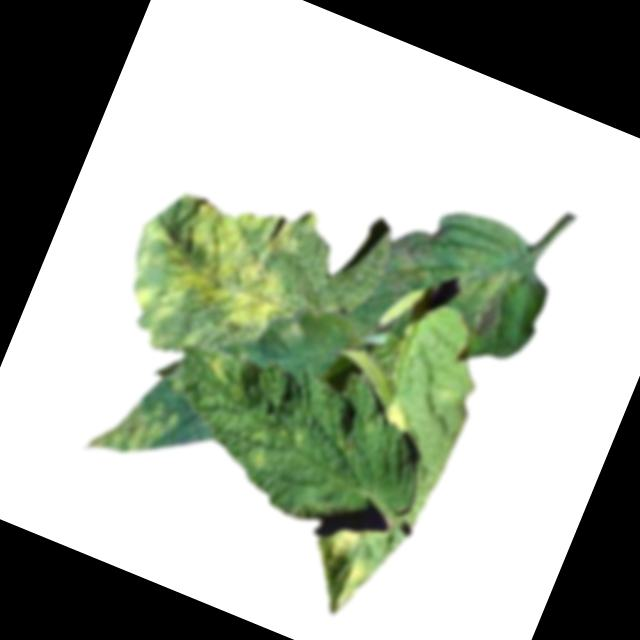Leaf_Mold: (108, 152, 320, 359), (79, 378, 183, 479), (451, 254, 523, 343), (330, 557, 378, 621), (322, 520, 362, 562), (198, 350, 237, 388), (240, 434, 274, 473), (378, 398, 413, 432)
